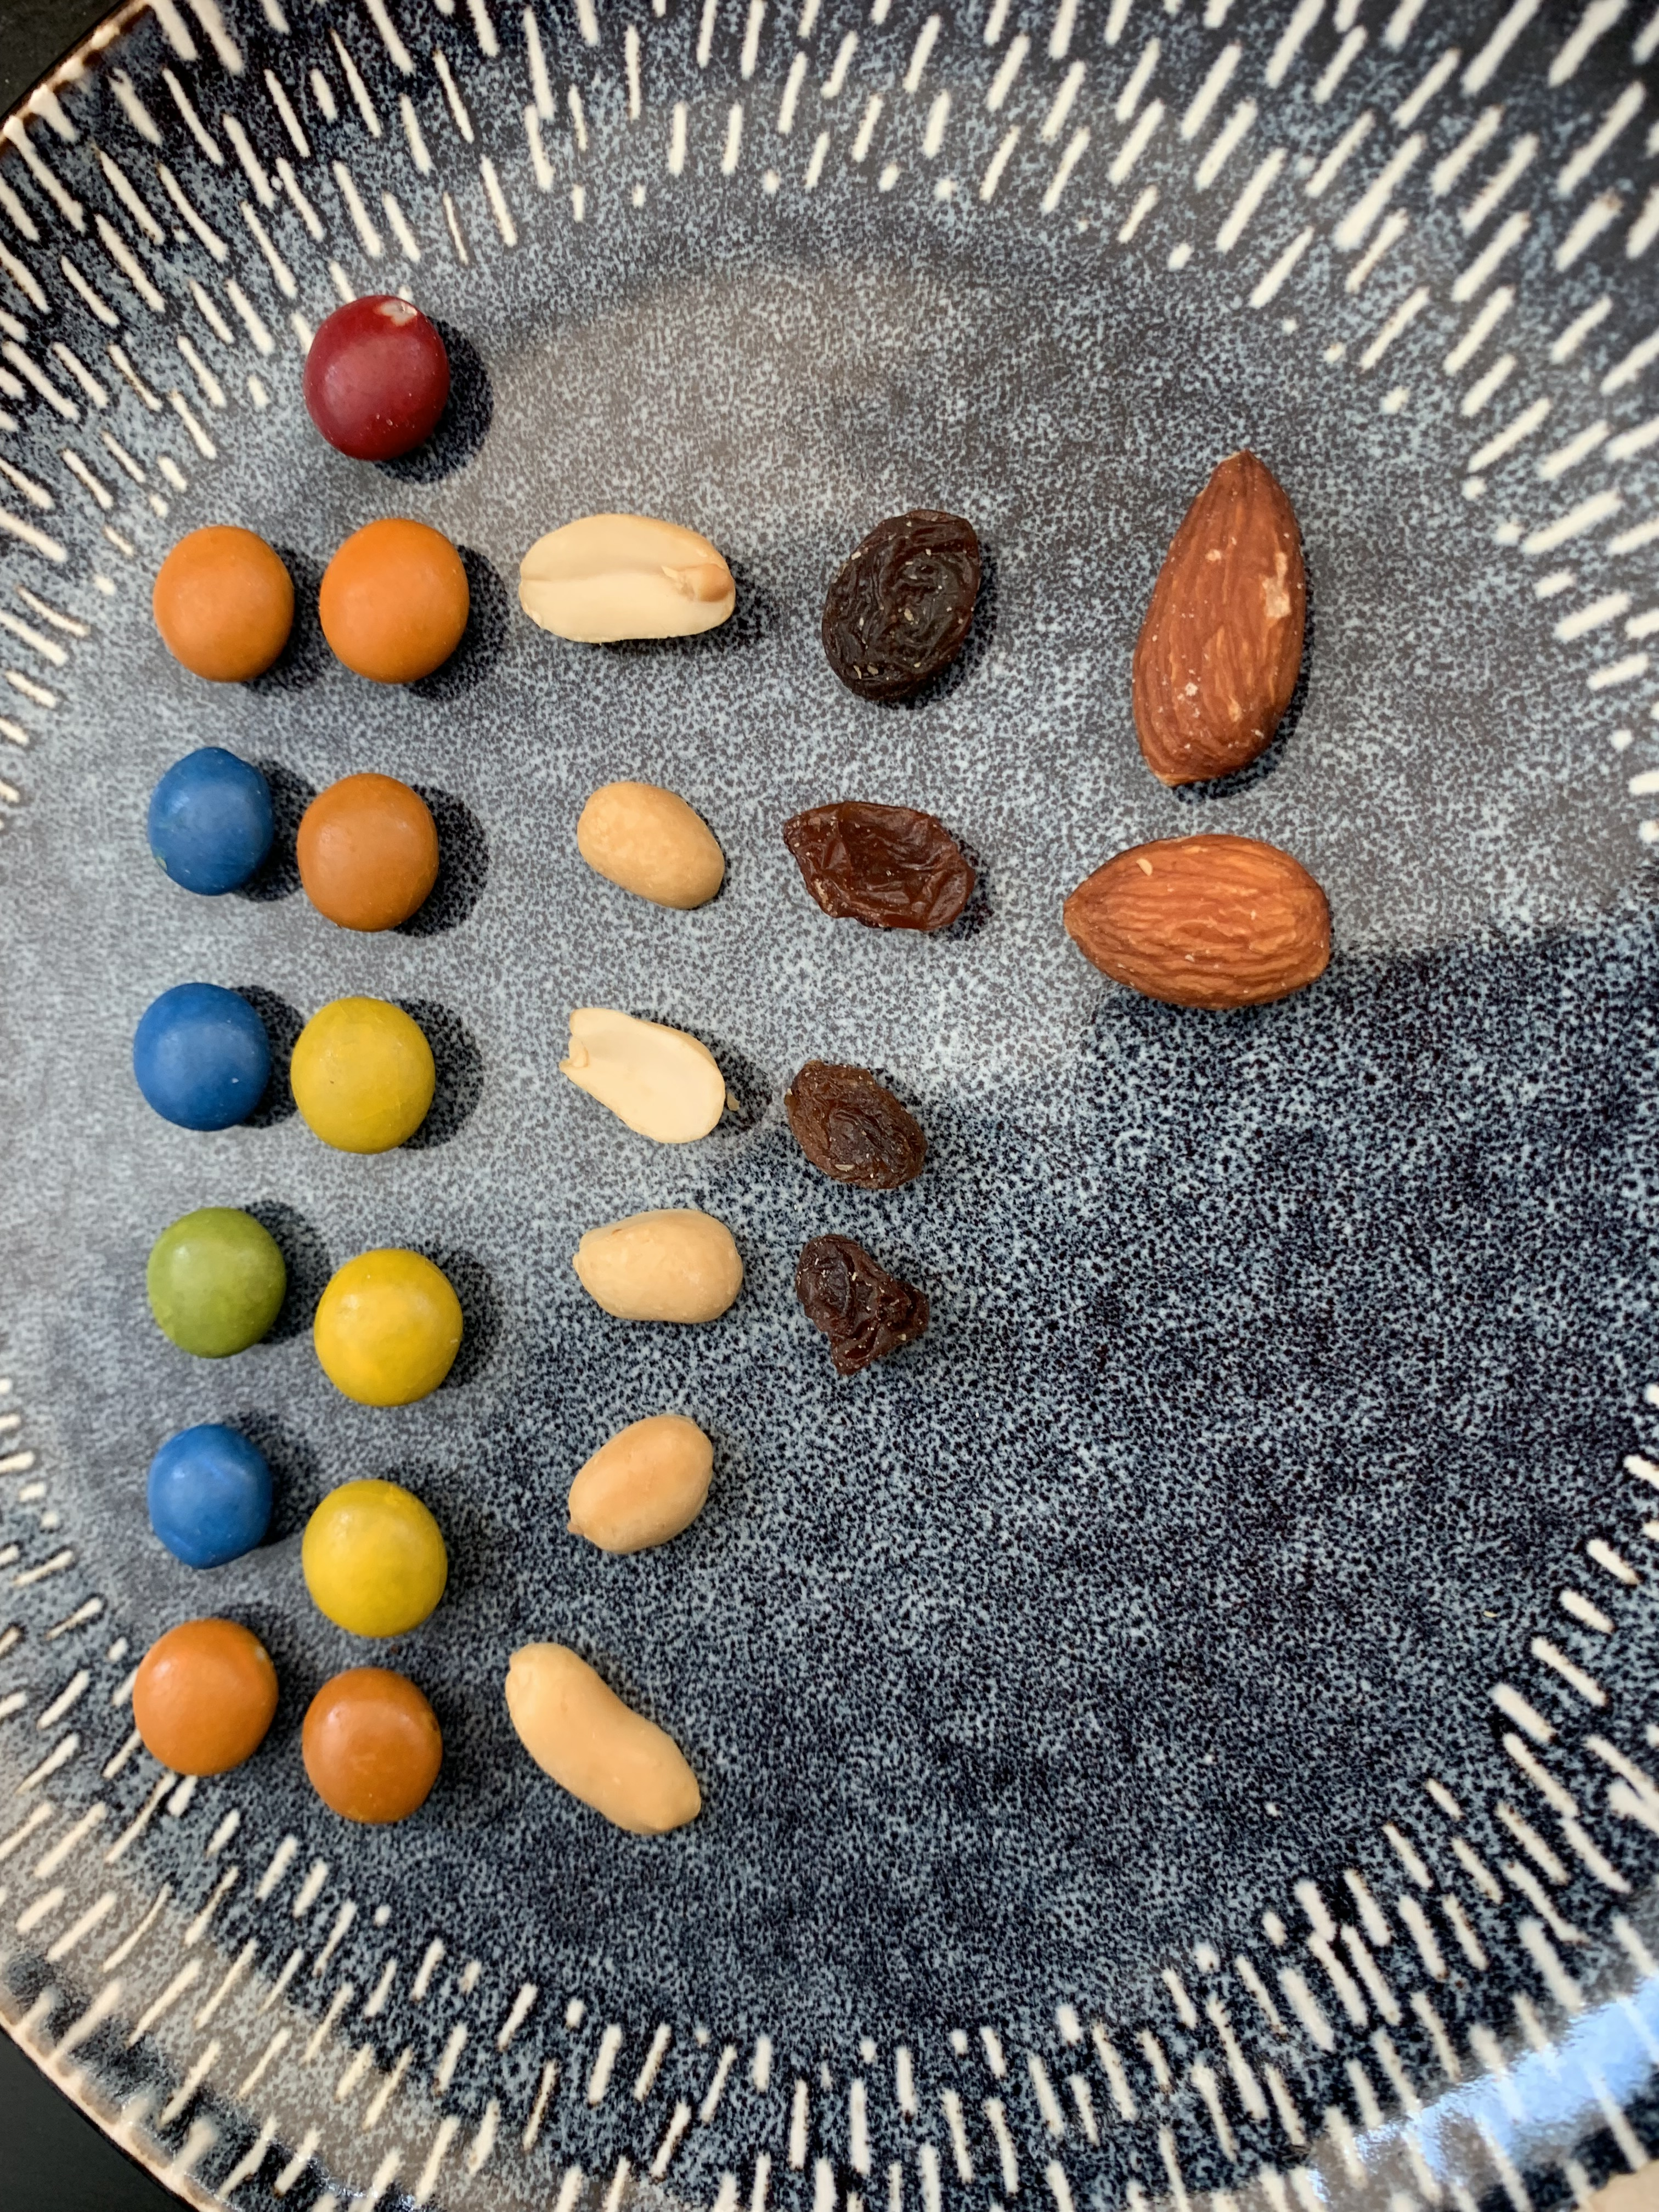almond: (1131, 449, 1310, 794), (1061, 833, 1335, 1012)
mm: (315, 519, 472, 683), (310, 1247, 465, 1409), (305, 293, 451, 462), (300, 1477, 450, 1641), (131, 1615, 281, 1775), (286, 996, 436, 1155), (301, 1665, 446, 1829), (152, 524, 298, 685), (295, 772, 439, 932), (146, 1207, 289, 1360), (131, 982, 268, 1134), (145, 747, 272, 895), (146, 1423, 274, 1569)
peanut: (502, 1641, 702, 1836), (518, 512, 739, 644), (558, 1005, 725, 1146), (565, 1413, 716, 1555), (573, 1205, 744, 1329), (577, 780, 728, 911)
raisin: (821, 507, 985, 712), (781, 798, 974, 932), (791, 1231, 932, 1378), (786, 1055, 929, 1191)
